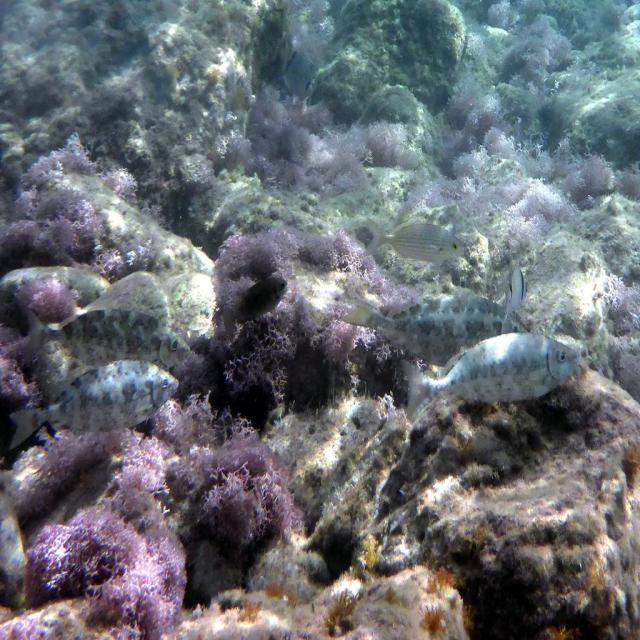Sokar Baligi: (400, 323, 588, 438), (0, 360, 187, 457)
